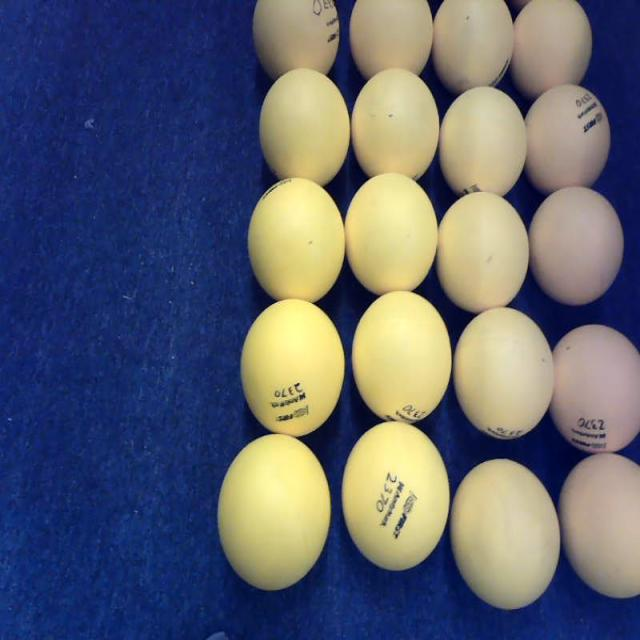Fuel: (217, 433, 331, 592), (449, 458, 561, 610), (341, 421, 450, 571), (240, 299, 345, 438), (453, 306, 555, 442), (351, 289, 452, 425), (247, 177, 346, 305), (557, 451, 640, 600), (547, 324, 639, 454), (344, 172, 438, 298), (434, 191, 530, 314), (528, 185, 625, 306), (259, 66, 351, 189), (350, 66, 440, 185), (520, 84, 612, 198), (438, 86, 528, 200), (508, 0, 593, 102), (431, 0, 515, 98), (252, 0, 340, 82), (348, 0, 433, 83)
